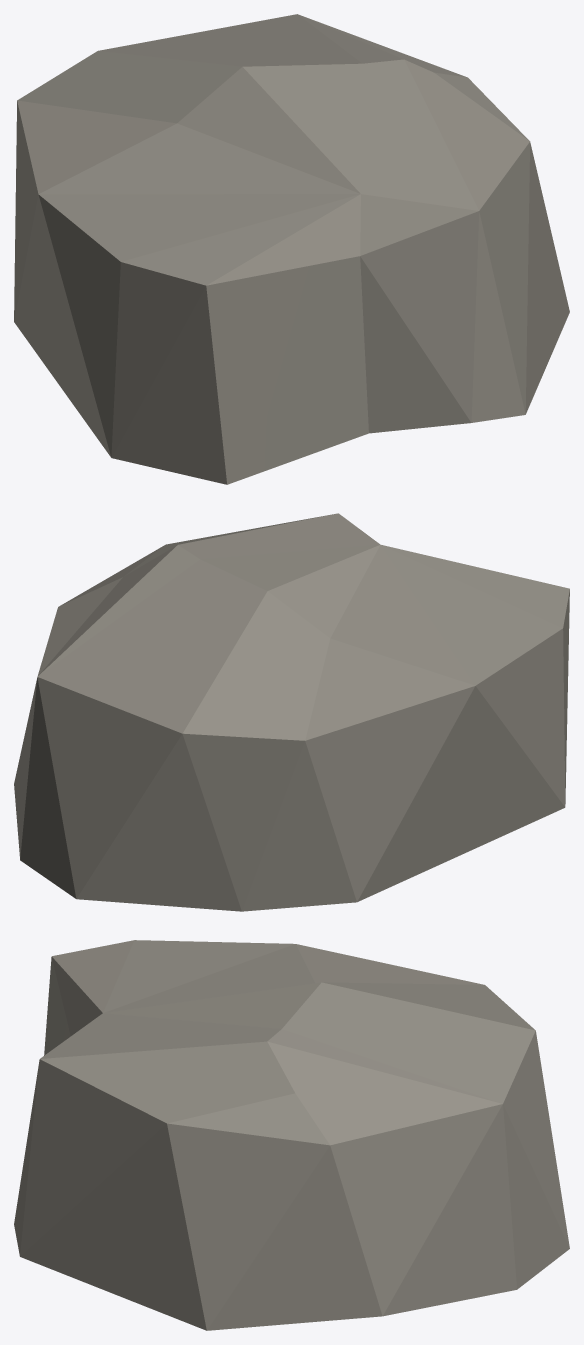
Rendered from Rock_07.fbx.
3 renders of one model, top to bottom at view 1: azimuth 30°, elevation 25°; view 2: azimuth 150°, elevation 25°; view 3: azimuth 270°, elevation 25°, orthographic. The views are drawn at different scales.
Parts seen in each view (by area): view 1: Rock_07; view 2: Rock_07; view 3: Rock_07.
Boxes of the visible parts, x1,y1,x2,y2 form: Rock_07: (14, 14, 569, 484); Rock_07: (14, 513, 569, 911); Rock_07: (14, 940, 569, 1330).
Size of the model in its own units: 55.44 by 28.08 by 60.39.
